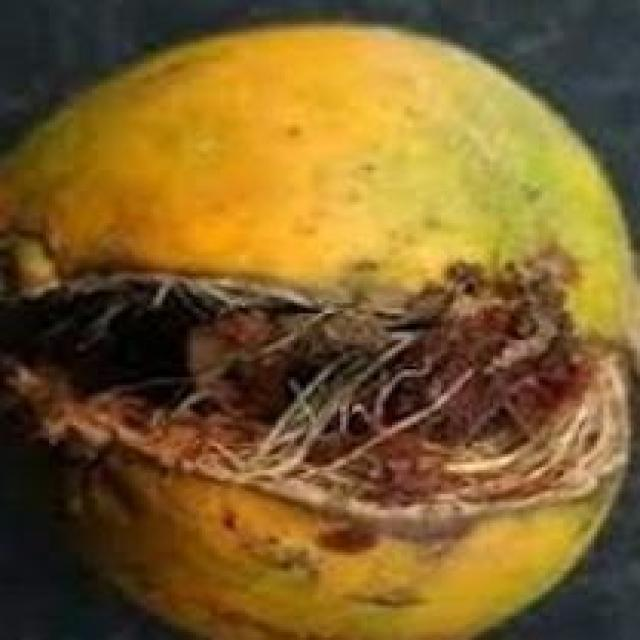damaged: (0, 21, 637, 637)
